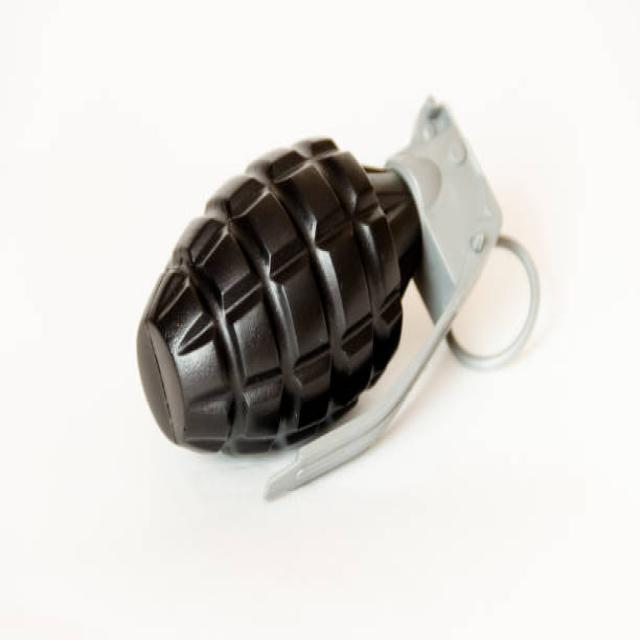grenade: (133, 93, 548, 506)
